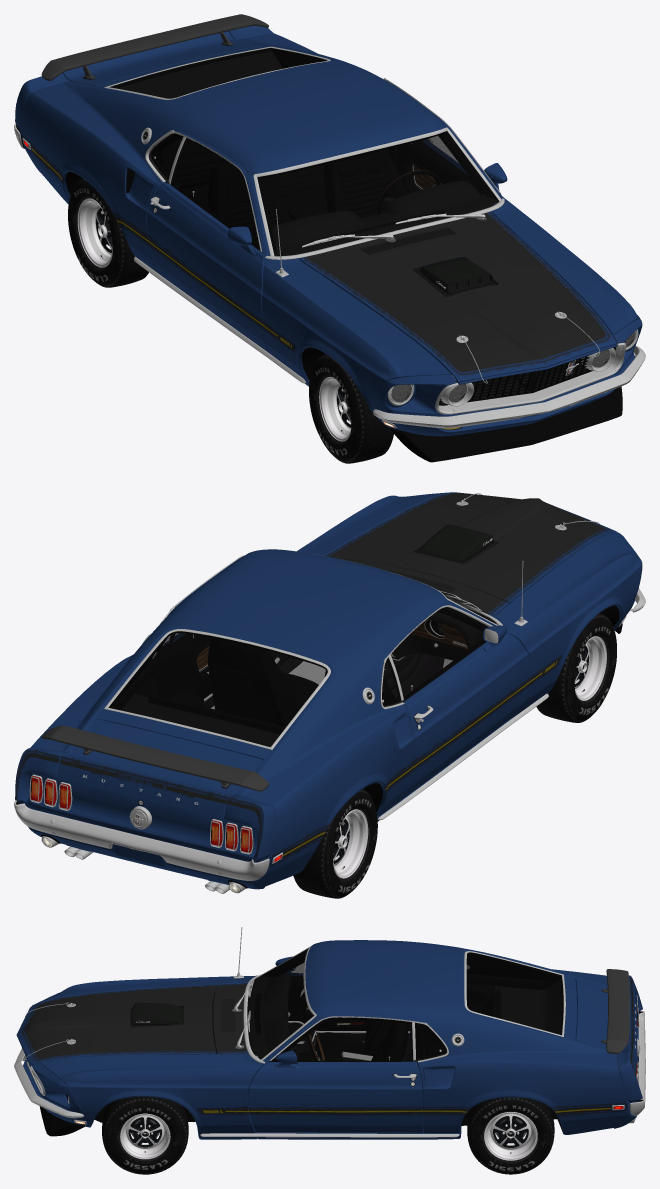
The model's file is ford-mustang.glb.
3 views of the same model, one above another, from view 1: azimuth 30°, elevation 25°; view 2: azimuth 150°, elevation 25°; view 3: azimuth 270°, elevation 25° (orthographic). The views are drawn at different scales.
Parts seen in each view (by area): view 1: Mustang:SM_Fender_B_101_SM_Fender_B_101_MI_Exhaust_013_Musta, Mustang:SK_Hood_101_SK_Hood_101_MI_1210060001_005_Mustang:MI, Mustang:SM_Body_101_SM_Body_101_MI_Mirror_Mustang:MI_Glass1_, Mustang:SM_Body_101_SM_Body_101_MI_Mirror_Mustang:MI_Cabin_L (×2), Mustang:SM_Fender_F_101_SM_Fender_F_101_MI_Exhaust_012_Musta, Mustang:SM_Bumper_F_101_SM_Bumper_F_101_MI_1210060001_007_Mu, Mustang:SK_Door_FR_101_SK_Door_FR_101_MI_Cabin_A_004_Mustang, Mustang:Ani_Wheel_FR60, Mustang:Ani_Wheel_BR65, Mustang:SM_Fender_B_101_SM_Fender_B_101_MI_Exhaust_010_Musta, Mustang:SM_Bumper_F_101_SM_Bumper_F_101_MI_1210060001_006_Mu, Mustang:SK_Door_FR_101_SK_Door_FR_101_MI_Cabin_A_010_Mustang (+13 smaller); view 2: Mustang:SM_Fender_B_101_SM_Fender_B_101_MI_Exhaust_013_Musta, Mustang:SM_Body_101_SM_Body_101_MI_Mirror_Mustang:MI_Glass1_, Mustang:SK_Hood_101_SK_Hood_101_MI_1210060001_005_Mustang:MI, Mustang:SM_Fender_F_101_SM_Fender_F_101_MI_Exhaust_012_Musta, Mustang:SM_Body_101_SM_Body_101_MI_Mirror_Mustang:MI_Cabin_L, Mustang:SM_Bumper_B_101_SM_Bumper_B_101_MI_1210060001_005_Mu, Mustang:SK_Door_FR_101_SK_Door_FR_101_MI_Cabin_A_004_Mustang, Mustang:SK_Trunk_101_SK_Trunk_101_MI_1210060001_003_Mustang:, Mustang:SM_Bumper_B_101_SM_Bumper_B_101_MI_1210060001_006_Mu, Mustang:SM_Body_101_SM_Body_101_MI_Mirror_Mustang:MI_Cabin1_, Mustang:Ani_Wheel_BR65, Mustang:Ani_Wheel_FR60 (+10 smaller); view 3: Mustang:SM_Fender_B_101_SM_Fender_B_101_MI_Exhaust_013_Musta, Mustang:SM_Fender_F_101_SM_Fender_F_101_MI_Exhaust_012_Musta, Mustang:SM_Body_101_SM_Body_101_MI_Mirror_Mustang:MI_Cabin_L (×2), Mustang:SK_Door_FL_101_SK_Door_FL_101_MI_1210060001_Mustang:, Mustang:SK_Hood_101_SK_Hood_101_MI_1210060001_005_Mustang:MI, Mustang:SM_Body_101_SM_Body_101_MI_Mirror_Mustang:MI_Glass1_, Mustang:Ani_Wheel_FL62, Mustang:Ani_Wheel_BL75, Mustang:Ani_Carwindow_FL_74, Mustang:SK_Trunk_101_SK_Trunk_101_MI_1210060001_003_Mustang:, Mustang:SM_Fender_B_101_SM_Fender_B_101_MI_Exhaust_010_Musta, Mustang:SM_SideSkirts_101_SM_SideSkirts_101_MI_1210060001_01 (×2) (+11 smaller).
Boxes of the visible parts, <box> form: Mustang:SM_Fender_B_101_SM_Fender_B_101_MI_Exhaust_013_Musta: <box>21,33,502,270</box>; Mustang:SK_Hood_101_SK_Hood_101_MI_1210060001_005_Mustang:MI: <box>322,229,617,384</box>; Mustang:SM_Body_101_SM_Body_101_MI_Mirror_Mustang:MI_Glass1_: <box>110,48,498,255</box>; Mustang:SM_Body_101_SM_Body_101_MI_Mirror_Mustang:MI_Cabin_L (×2): <box>117,51,498,256</box>; Mustang:SM_Fender_F_101_SM_Fender_F_101_MI_Exhaust_012_Musta: <box>261,199,640,409</box>; Mustang:SM_Bumper_F_101_SM_Bumper_F_101_MI_1210060001_007_Mu: <box>373,342,645,462</box>; Mustang:SK_Door_FR_101_SK_Door_FR_101_MI_Cabin_A_004_Mustang: <box>147,182,268,351</box>; Mustang:Ani_Wheel_FR60: <box>309,354,393,463</box>; Mustang:Ani_Wheel_BR65: <box>68,178,148,287</box>; Mustang:SM_Fender_B_101_SM_Fender_B_101_MI_Exhaust_010_Musta: <box>22,46,504,259</box>; Mustang:SM_Bumper_F_101_SM_Bumper_F_101_MI_1210060001_006_Mu: <box>370,319,642,436</box>; Mustang:SK_Door_FR_101_SK_Door_FR_101_MI_Cabin_A_010_Mustang: <box>170,138,260,250</box>; Mustang:SM_Fender_B_101_SM_Fender_B_101_MI_Exhaust_013_Musta: <box>31,549,495,887</box>; Mustang:SM_Body_101_SM_Body_101_MI_Mirror_Mustang:MI_Glass1_: <box>109,592,498,746</box>; Mustang:SK_Hood_101_SK_Hood_101_MI_1210060001_005_Mustang:MI: <box>324,492,616,603</box>; Mustang:SM_Fender_F_101_SM_Fender_F_101_MI_Exhaust_012_Musta: <box>297,492,640,718</box>; Mustang:SM_Body_101_SM_Body_101_MI_Mirror_Mustang:MI_Cabin_L: <box>111,608,497,746</box>; Mustang:SM_Bumper_B_101_SM_Bumper_B_101_MI_1210060001_005_Mu: <box>15,747,276,889</box>; Mustang:SK_Door_FR_101_SK_Door_FR_101_MI_Cabin_A_004_Mustang: <box>403,633,529,797</box>; Mustang:SK_Trunk_101_SK_Trunk_101_MI_1210060001_003_Mustang:: <box>57,719,263,818</box>; Mustang:SM_Bumper_B_101_SM_Bumper_B_101_MI_1210060001_006_Mu: <box>14,774,269,893</box>; Mustang:SM_Body_101_SM_Body_101_MI_Mirror_Mustang:MI_Cabin1_: <box>108,607,486,734</box>; Mustang:Ani_Wheel_BR65: <box>293,789,377,898</box>; Mustang:Ani_Wheel_FR60: <box>536,613,616,722</box>; Mustang:SM_Fender_B_101_SM_Fender_B_101_MI_Exhaust_013_Musta: <box>263,940,632,1134</box>; Mustang:SM_Fender_F_101_SM_Fender_F_101_MI_Exhaust_012_Musta: <box>40,975,264,1139</box>; Mustang:SM_Body_101_SM_Body_101_MI_Mirror_Mustang:MI_Cabin_L (×2): <box>247,949,561,1060</box>; Mustang:SK_Door_FL_101_SK_Door_FL_101_MI_1210060001_Mustang:: <box>248,1061,423,1132</box>; Mustang:SK_Hood_101_SK_Hood_101_MI_1210060001_005_Mustang:MI: <box>16,984,216,1066</box>; Mustang:SM_Body_101_SM_Body_101_MI_Mirror_Mustang:MI_Glass1_: <box>247,947,563,1059</box>; Mustang:Ani_Wheel_FL62: <box>102,1096,188,1174</box>; Mustang:Ani_Wheel_BL75: <box>467,1097,554,1174</box>; Mustang:Ani_Carwindow_FL_74: <box>271,1017,412,1061</box>; Mustang:SK_Trunk_101_SK_Trunk_101_MI_1210060001_003_Mustang:: <box>575,978,637,1062</box>; Mustang:SM_Fender_B_101_SM_Fender_B_101_MI_Exhaust_010_Musta: <box>243,943,624,1132</box>; Mustang:SM_SideSkirts_101_SM_SideSkirts_101_MI_1210060001_01 (×2): <box>200,1132,461,1139</box>.
Bounding box in the file's own units: 0.0184 × 0.0133 × 0.0477.
22 materials, 19 textured.
